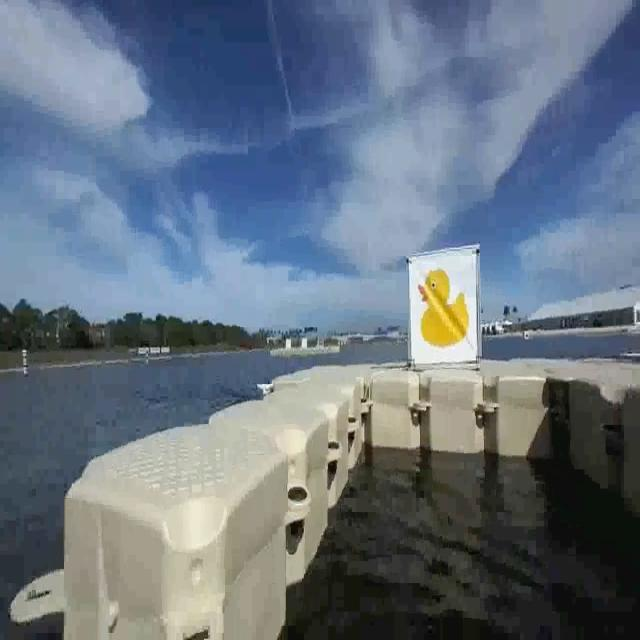yellow-duck: (419, 265, 471, 346)
